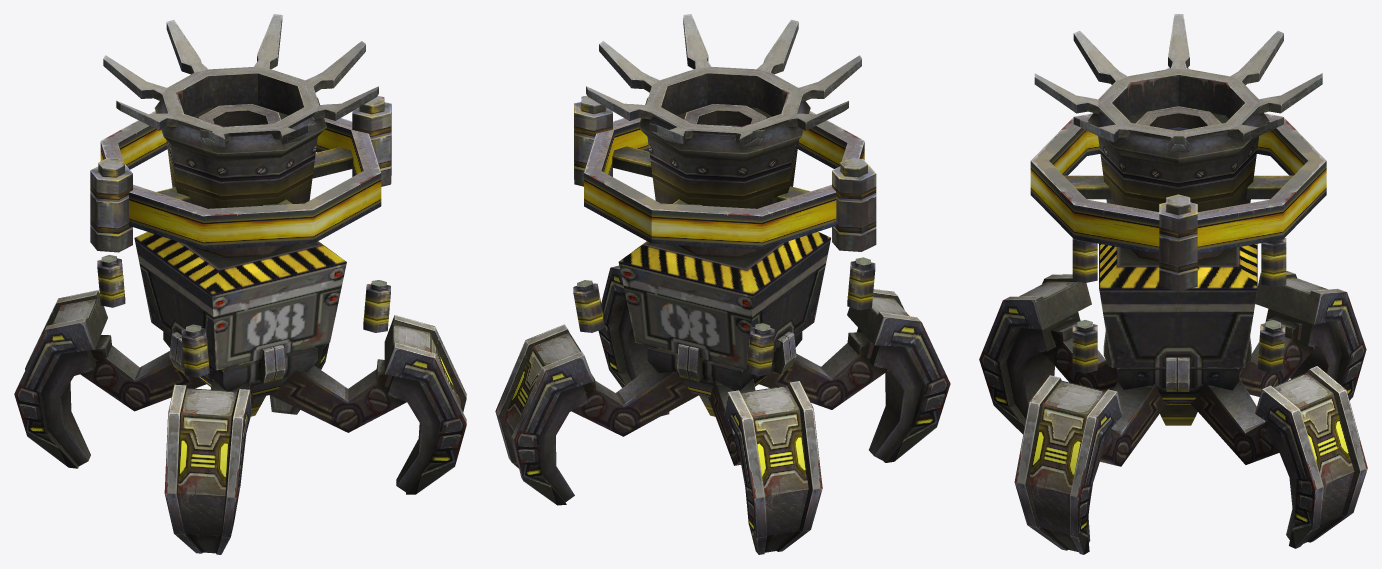
File: fb_suidao_jiqiren_01.FBX
3 views of the same model, side by side, from view 1: azimuth 30°, elevation 25°; view 2: azimuth 150°, elevation 25°; view 3: azimuth 270°, elevation 25° (orthographic).
Parts seen in each view (by area): view 1: fb_suidao_jiqiren01; view 2: fb_suidao_jiqiren01; view 3: fb_suidao_jiqiren01.
Part boxes in pixels (x1,y1,x2,y2): fb_suidao_jiqiren01: (14, 14, 466, 554); fb_suidao_jiqiren01: (495, 14, 950, 554); fb_suidao_jiqiren01: (979, 14, 1367, 554).
Size of the model in its own units: 2285 by 2631 by 2225.
